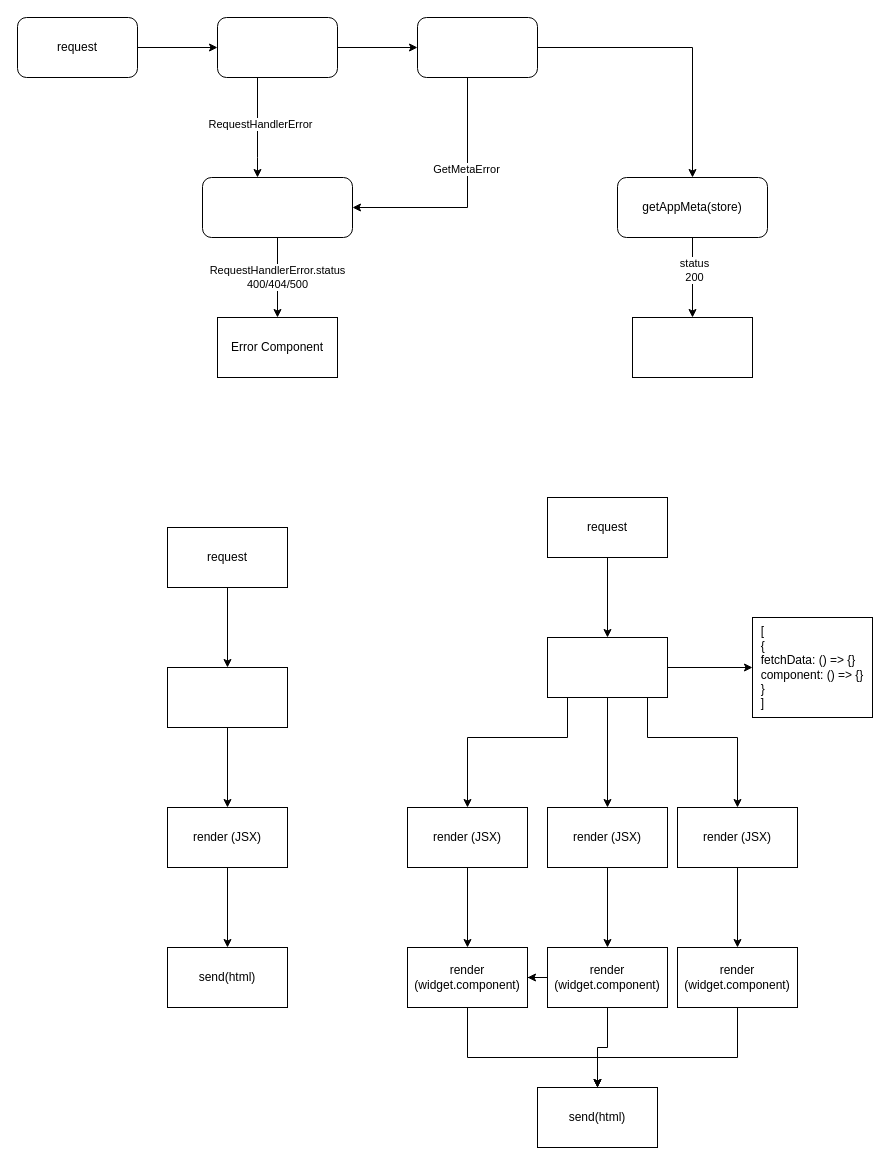
Image size: 890x1165. Some labels were removed from this diagram. Each missing label, with the centre of its shape:
"fetch data" goes at [227,697].
"fetchInitialData" goes at [277,47].
"get widgets (по дереву собираются контроллеры)" goes at [607,667].
"getAppMeta(store, error)" goes at [277,207].
"getRouteMeta" goes at [477,47].
"Success Component" goes at [692,347].
